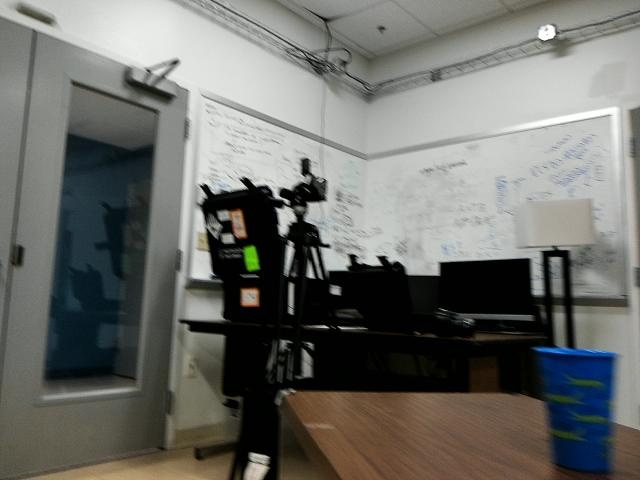water_cup: (529, 339, 623, 473)
